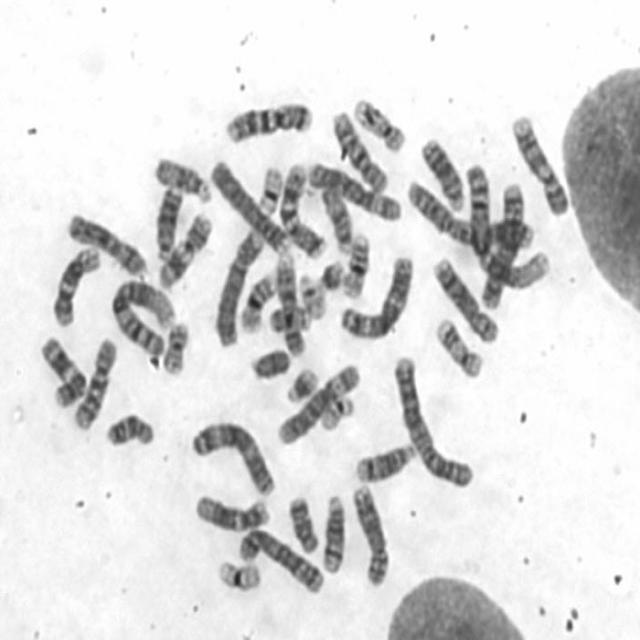A1: (463, 162, 555, 295), (111, 280, 178, 355)
A2: (391, 353, 476, 490), (404, 177, 534, 253)
A3: (338, 253, 414, 344), (190, 418, 276, 497)
B4: (208, 160, 290, 256), (212, 229, 266, 349)
B5: (476, 182, 526, 310), (237, 526, 326, 594)
C10: (331, 108, 392, 197), (71, 334, 119, 433)
C11: (155, 211, 213, 290), (39, 336, 87, 408)
C12: (51, 242, 100, 330), (194, 492, 272, 532)
C6: (274, 362, 361, 446), (307, 156, 404, 223)
C7: (276, 160, 327, 262), (222, 100, 314, 148)
C8: (432, 256, 500, 344), (346, 485, 390, 586)
C9: (510, 111, 572, 217), (274, 251, 306, 359)
D13: (420, 135, 465, 213), (152, 185, 185, 264)
D14: (353, 441, 418, 485), (320, 491, 345, 576)
D15: (153, 154, 214, 206), (320, 183, 353, 257)
E16: (237, 272, 278, 335), (339, 233, 372, 300)
E17: (351, 95, 407, 156), (435, 318, 484, 381)
E18: (285, 496, 320, 554), (105, 412, 153, 450)
F19: (215, 557, 262, 593), (255, 164, 284, 218)
F20: (161, 321, 190, 378), (268, 304, 313, 335)
G21: (283, 364, 320, 406), (316, 259, 346, 293)
G22: (316, 392, 355, 433), (297, 272, 327, 321)
X: (66, 212, 149, 279)
Y: (252, 346, 292, 381)
